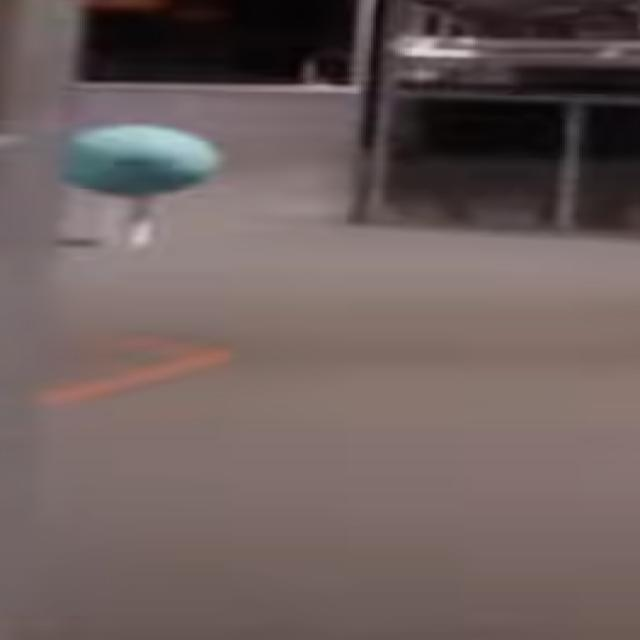Algae: (67, 125, 219, 196)
Coral: (109, 196, 162, 250)
